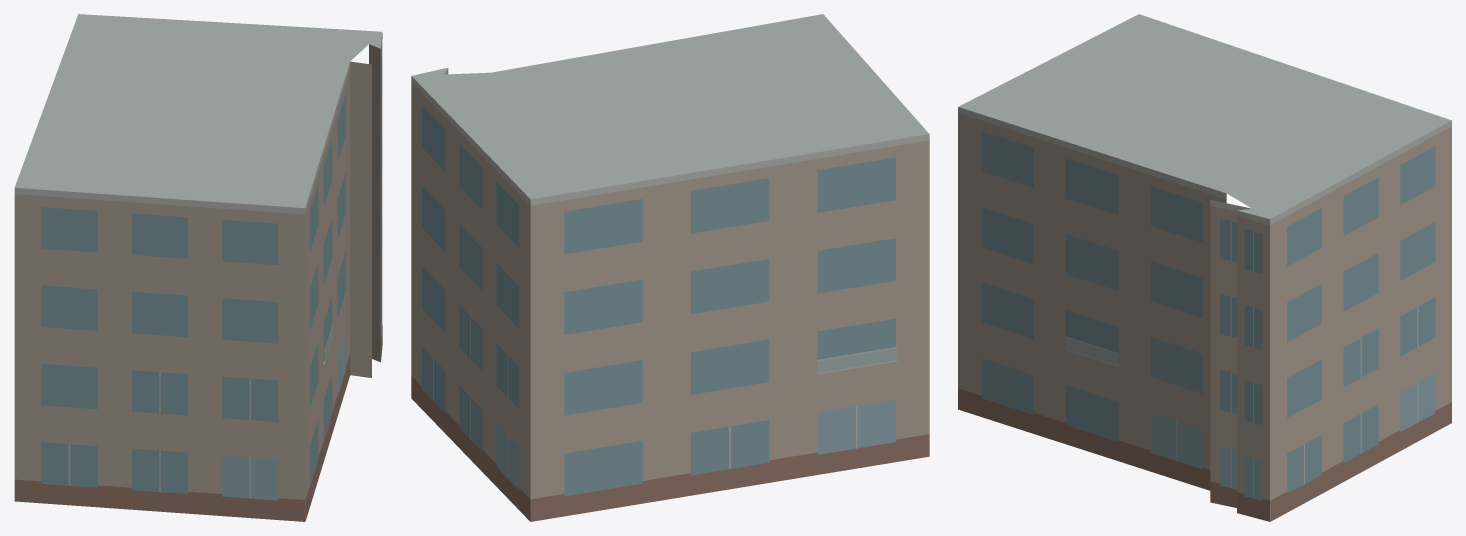
File: survey-upis-32680487.glb
3 views of the same model, side by side, from view 1: azimuth 30°, elevation 25°; view 2: azimuth 150°, elevation 25°; view 3: azimuth 270°, elevation 25° (orthographic). The views are drawn at different scales.
Visible parts, largest first — view 1: survey-upis-32680487.tmp; view 2: survey-upis-32680487.tmp; view 3: survey-upis-32680487.tmp.
Part boxes in pixels (box(x1,y1,x2,y2)): survey-upis-32680487.tmp: box(14, 14, 382, 521); survey-upis-32680487.tmp: box(411, 14, 929, 521); survey-upis-32680487.tmp: box(958, 14, 1451, 521).
Bounding box in the file's own units: 17.75 × 12.2 × 18.05.
